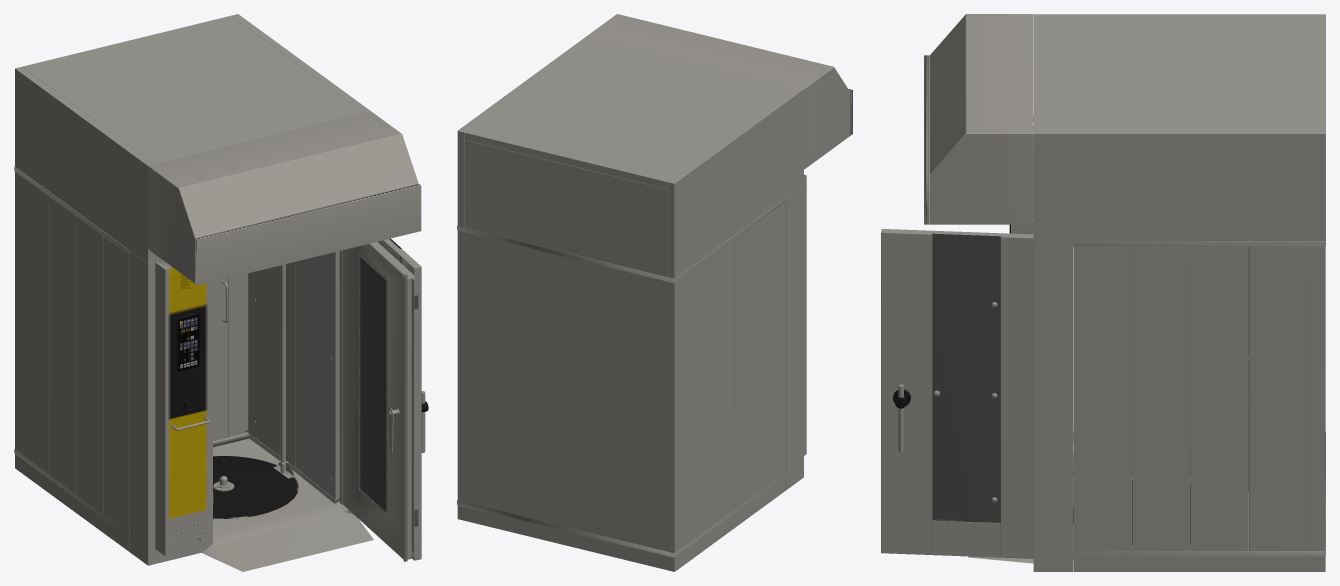
Rendered from OpenDoorOven.glb.
3 renders of one model, left to right at view 1: azimuth 30°, elevation 25°; view 2: azimuth 150°, elevation 25°; view 3: azimuth 270°, elevation 25°, orthographic. The views are drawn at different scales.
Parts seen in each view (by area): view 1: Oven, Door, glass; view 2: Oven; view 3: Oven, Door, glass.
Boxes of the visible parts, left/top/right/bottom form: Oven: left=14, top=14, right=421, bottom=571; Door: left=339, top=239, right=428, bottom=561; glass: left=360, top=238, right=401, bottom=511; Oven: left=457, top=14, right=852, bottom=571; Oven: left=924, top=14, right=1325, bottom=571; Door: left=881, top=229, right=1033, bottom=558; glass: left=932, top=233, right=1000, bottom=522.
Bounding box in the file's own units: 155 × 265 × 244.
1 material, 1 textured.
